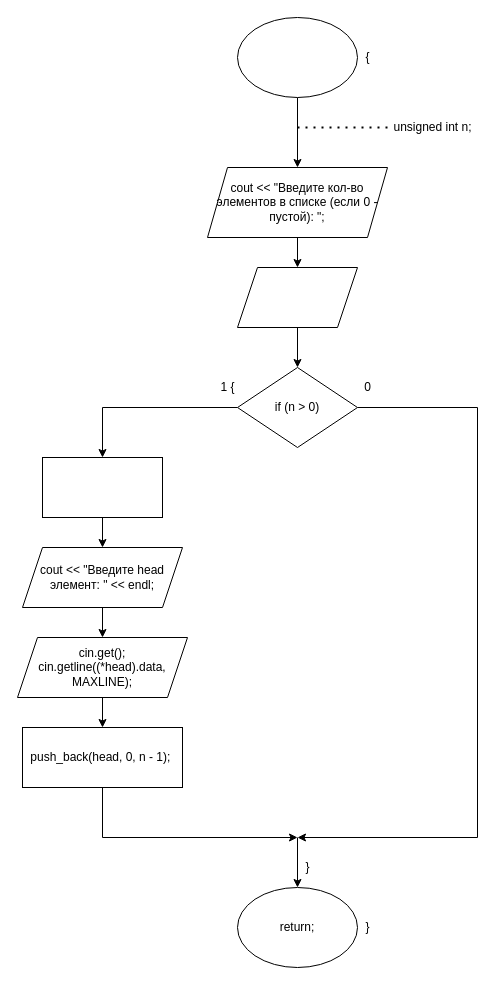
The diagram is 503 pixels wide and 985 high, and some of its shapes have lost their labels. Here are the shapes that lost their labels. From the top down, the centre of each, then its label:
At pixel 297 57: "void create_list(Point*& head)".
At pixel 297 297: "cin >> n;".
At pixel 102 487: "head = new Point;".
